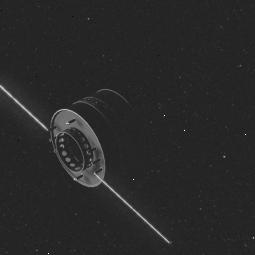double_start: (36, 67, 153, 214)
